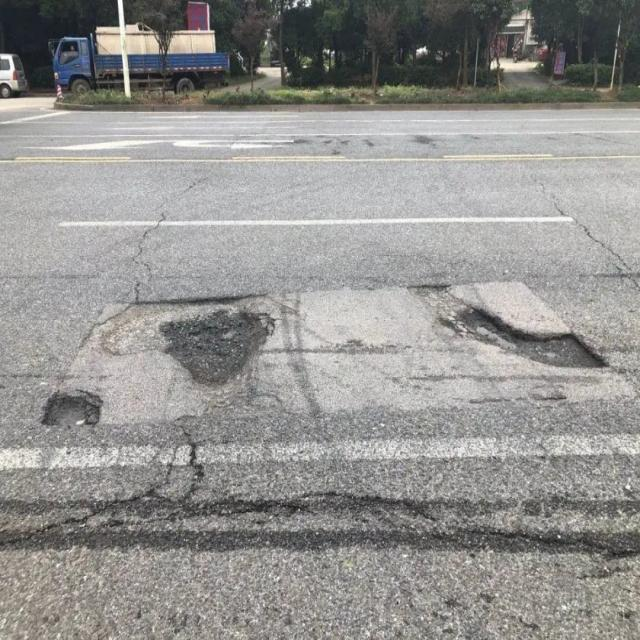Pothole: (396, 278, 609, 378), (151, 297, 279, 396), (37, 386, 117, 446)
